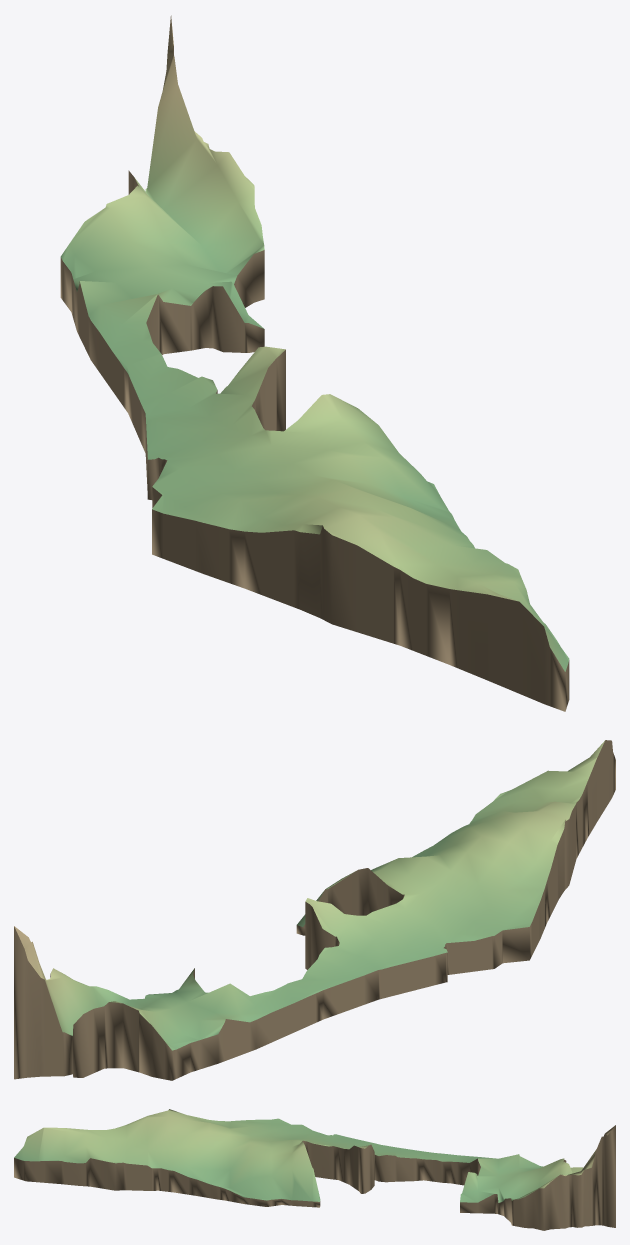
The model's file is ISR.glb.
The picture shows the model from 3 angles, top to bottom: view 1: azimuth 30°, elevation 25°; view 2: azimuth 150°, elevation 25°; view 3: azimuth 270°, elevation 25°; orthographic projection. The views are drawn at different scales.
Visible parts, largest first — view 1: ISR; view 2: ISR; view 3: ISR.
Part boxes in pixels (x1,y1,x2,y2): ISR: (60,15,569,711); ISR: (14,740,615,1080); ISR: (14,1109,615,1230).
Bounding box in the file's own units: 0.6298 × 0.338 × 1.78.
